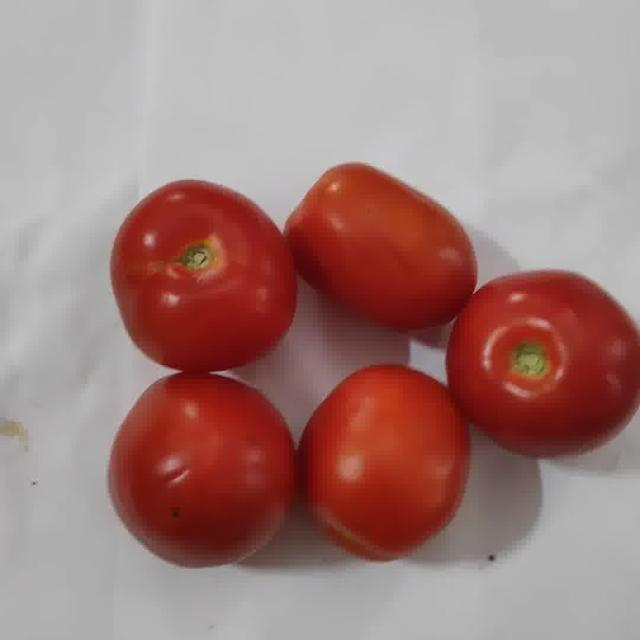Tomato: (446, 271, 639, 456), (110, 373, 295, 566), (111, 180, 296, 372), (284, 164, 476, 332), (301, 366, 469, 558)
